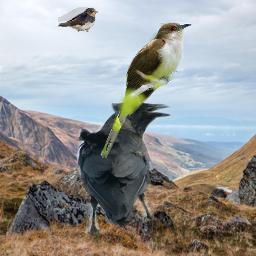Crow: (77, 96, 172, 247)
Cuckoo: (100, 21, 192, 158)
Swallow: (58, 7, 98, 32)
